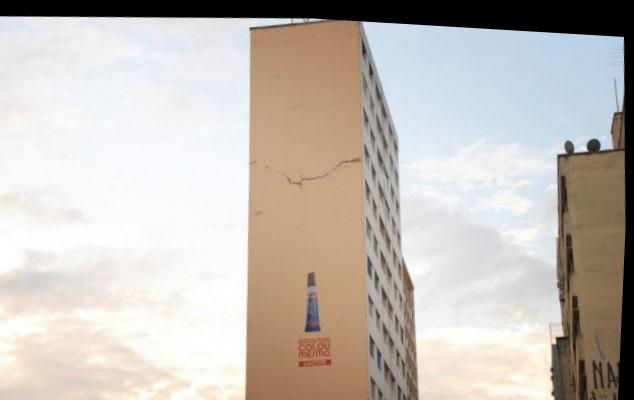crack: (251, 153, 364, 183)
